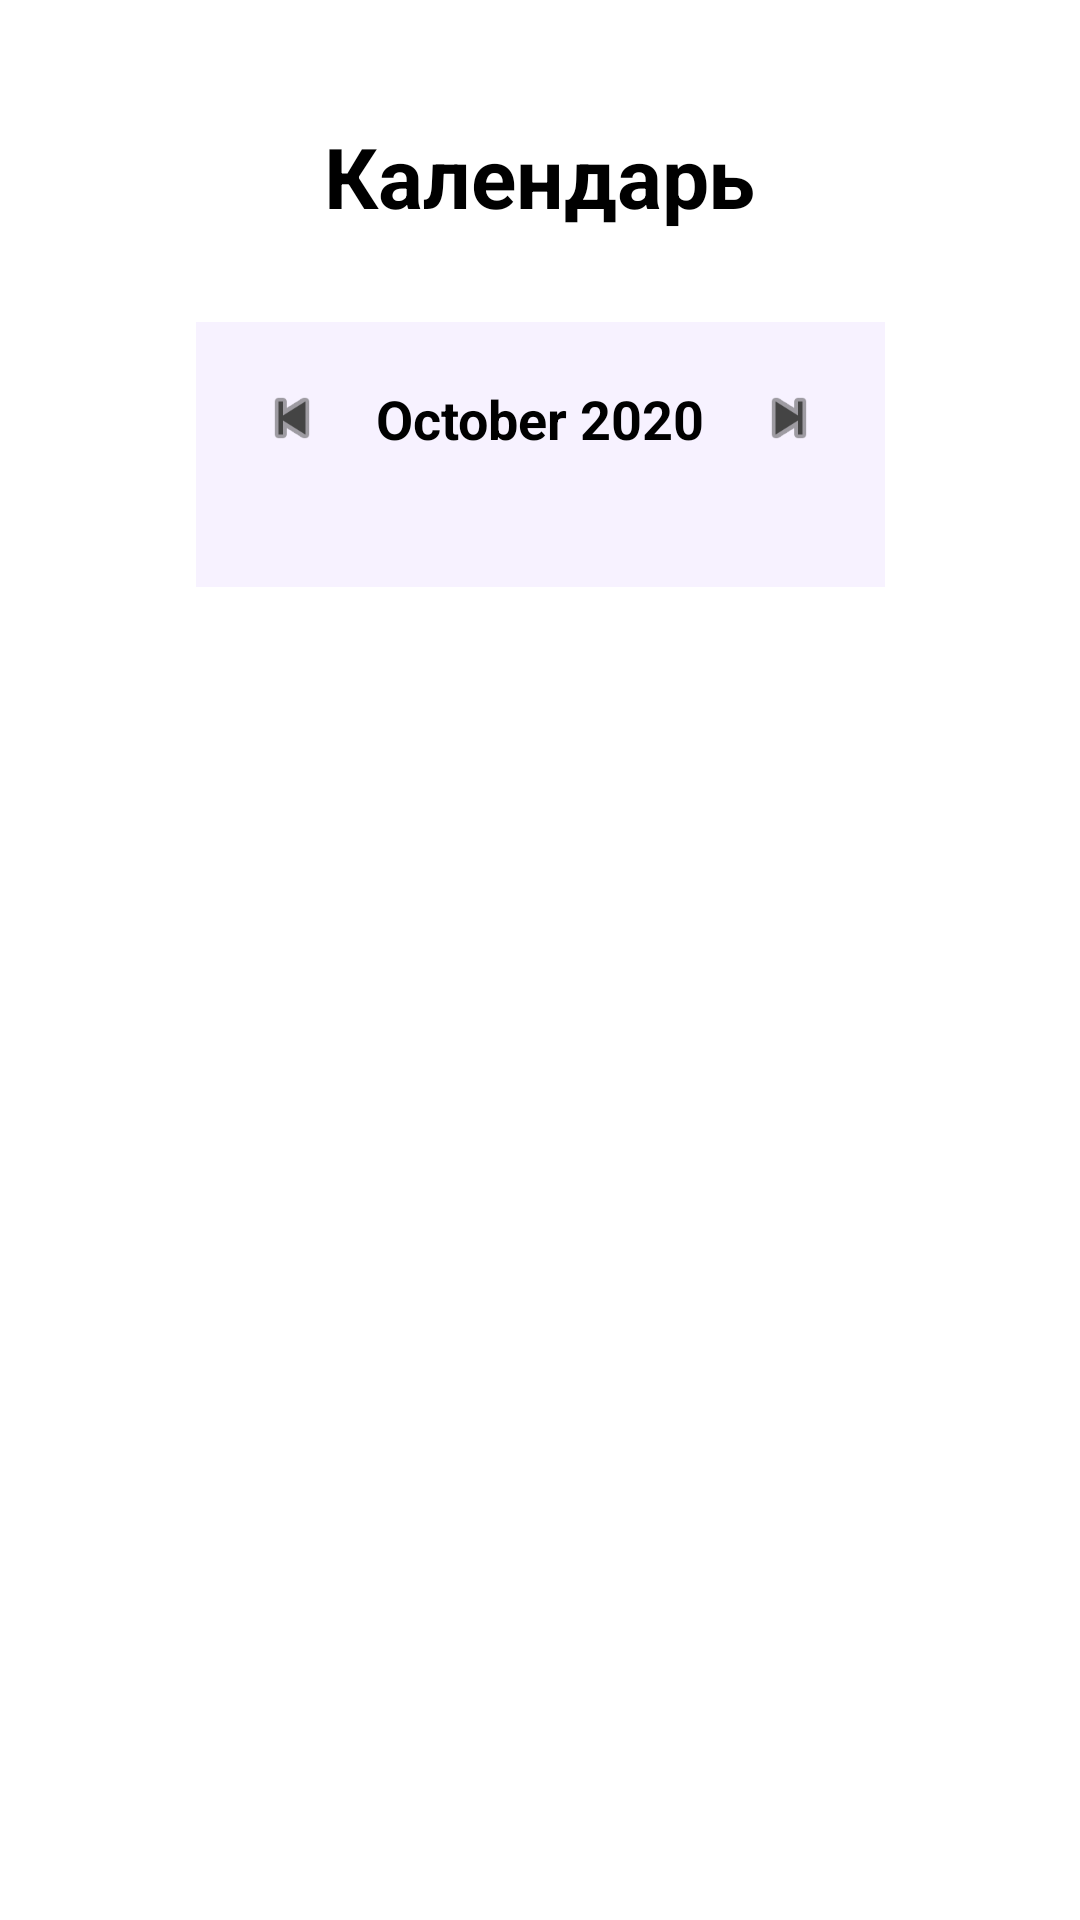

Where icons sit on this 1080 × 1920 app screen, as {"x1": x1, "y1": y1, "x2": x2, "y2": y2}:
next: {"x1": 772, "y1": 398, "x2": 806, "y2": 438}
previous: {"x1": 275, "y1": 398, "x2": 309, "y2": 438}
